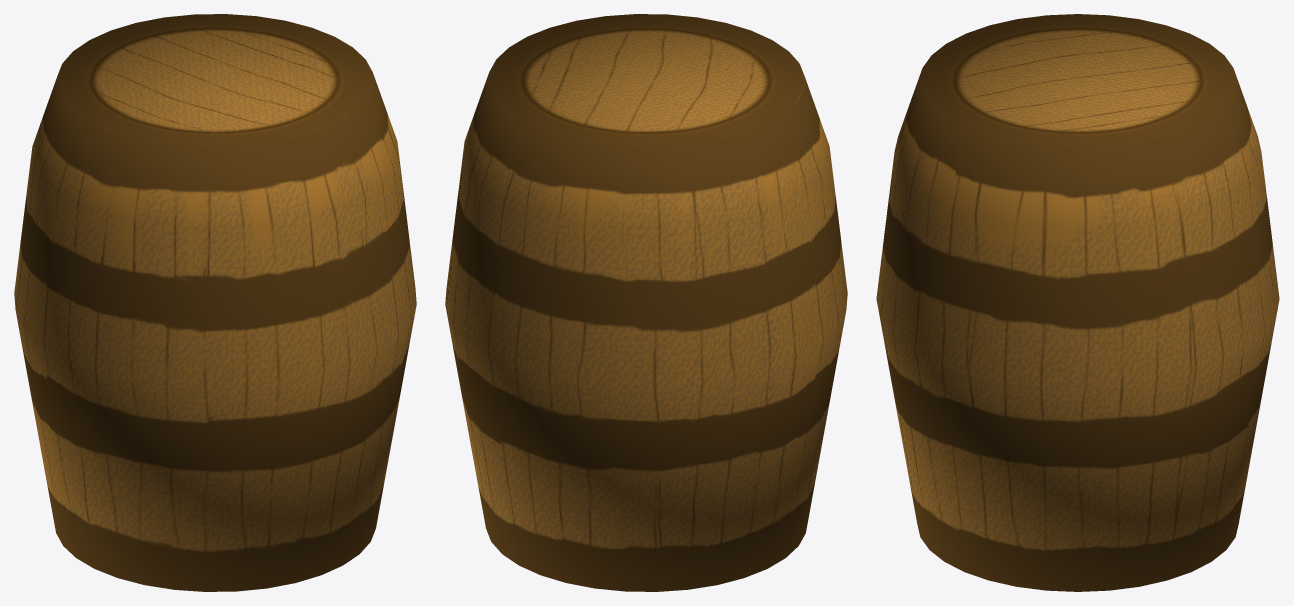
The model's file is collisionBarrel.obj.
3 renders of one model, left to right at view 1: azimuth 30°, elevation 25°; view 2: azimuth 150°, elevation 25°; view 3: azimuth 270°, elevation 25°, orthographic.
Visible parts, largest first — view 1: col.barrelCollision.000_Cylinder; view 2: col.barrelCollision.000_Cylinder; view 3: col.barrelCollision.000_Cylinder.
Boxes of the visible parts, x1=… form: col.barrelCollision.000_Cylinder: x1=14, y1=14, x2=416, y2=591; col.barrelCollision.000_Cylinder: x1=445, y1=14, x2=847, y2=591; col.barrelCollision.000_Cylinder: x1=876, y1=14, x2=1279, y2=591.
Bounding box in the file's own units: 0.756 × 0.9168 × 0.756.
